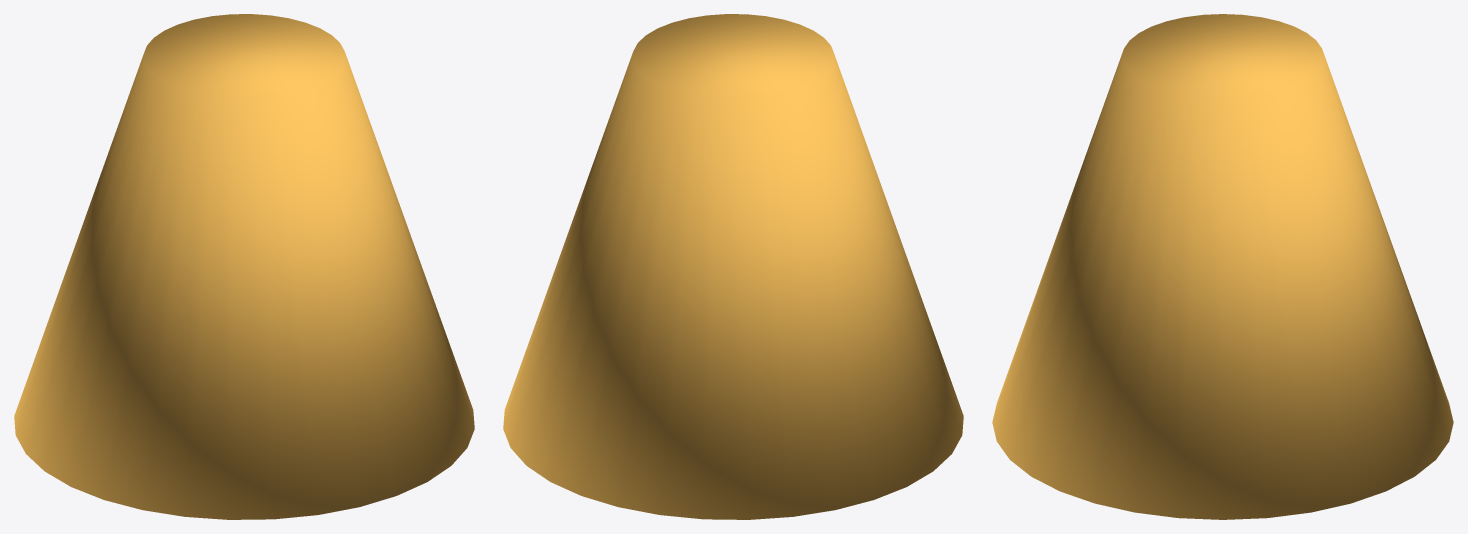
Rendered from conical-frustum-lite.glb.
3 views of the same model, side by side, from view 1: azimuth 30°, elevation 25°; view 2: azimuth 150°, elevation 25°; view 3: azimuth 270°, elevation 25° (orthographic).
Visible parts, largest first — view 1: Frustum; view 2: Frustum; view 3: Frustum.
Part boxes in pixels (x1,y1,x2,y2): Frustum: (14,14,474,519); Frustum: (503,14,963,519); Frustum: (992,14,1453,519).
Size of the model in its own units: 1.6 by 1.4 by 1.6.
